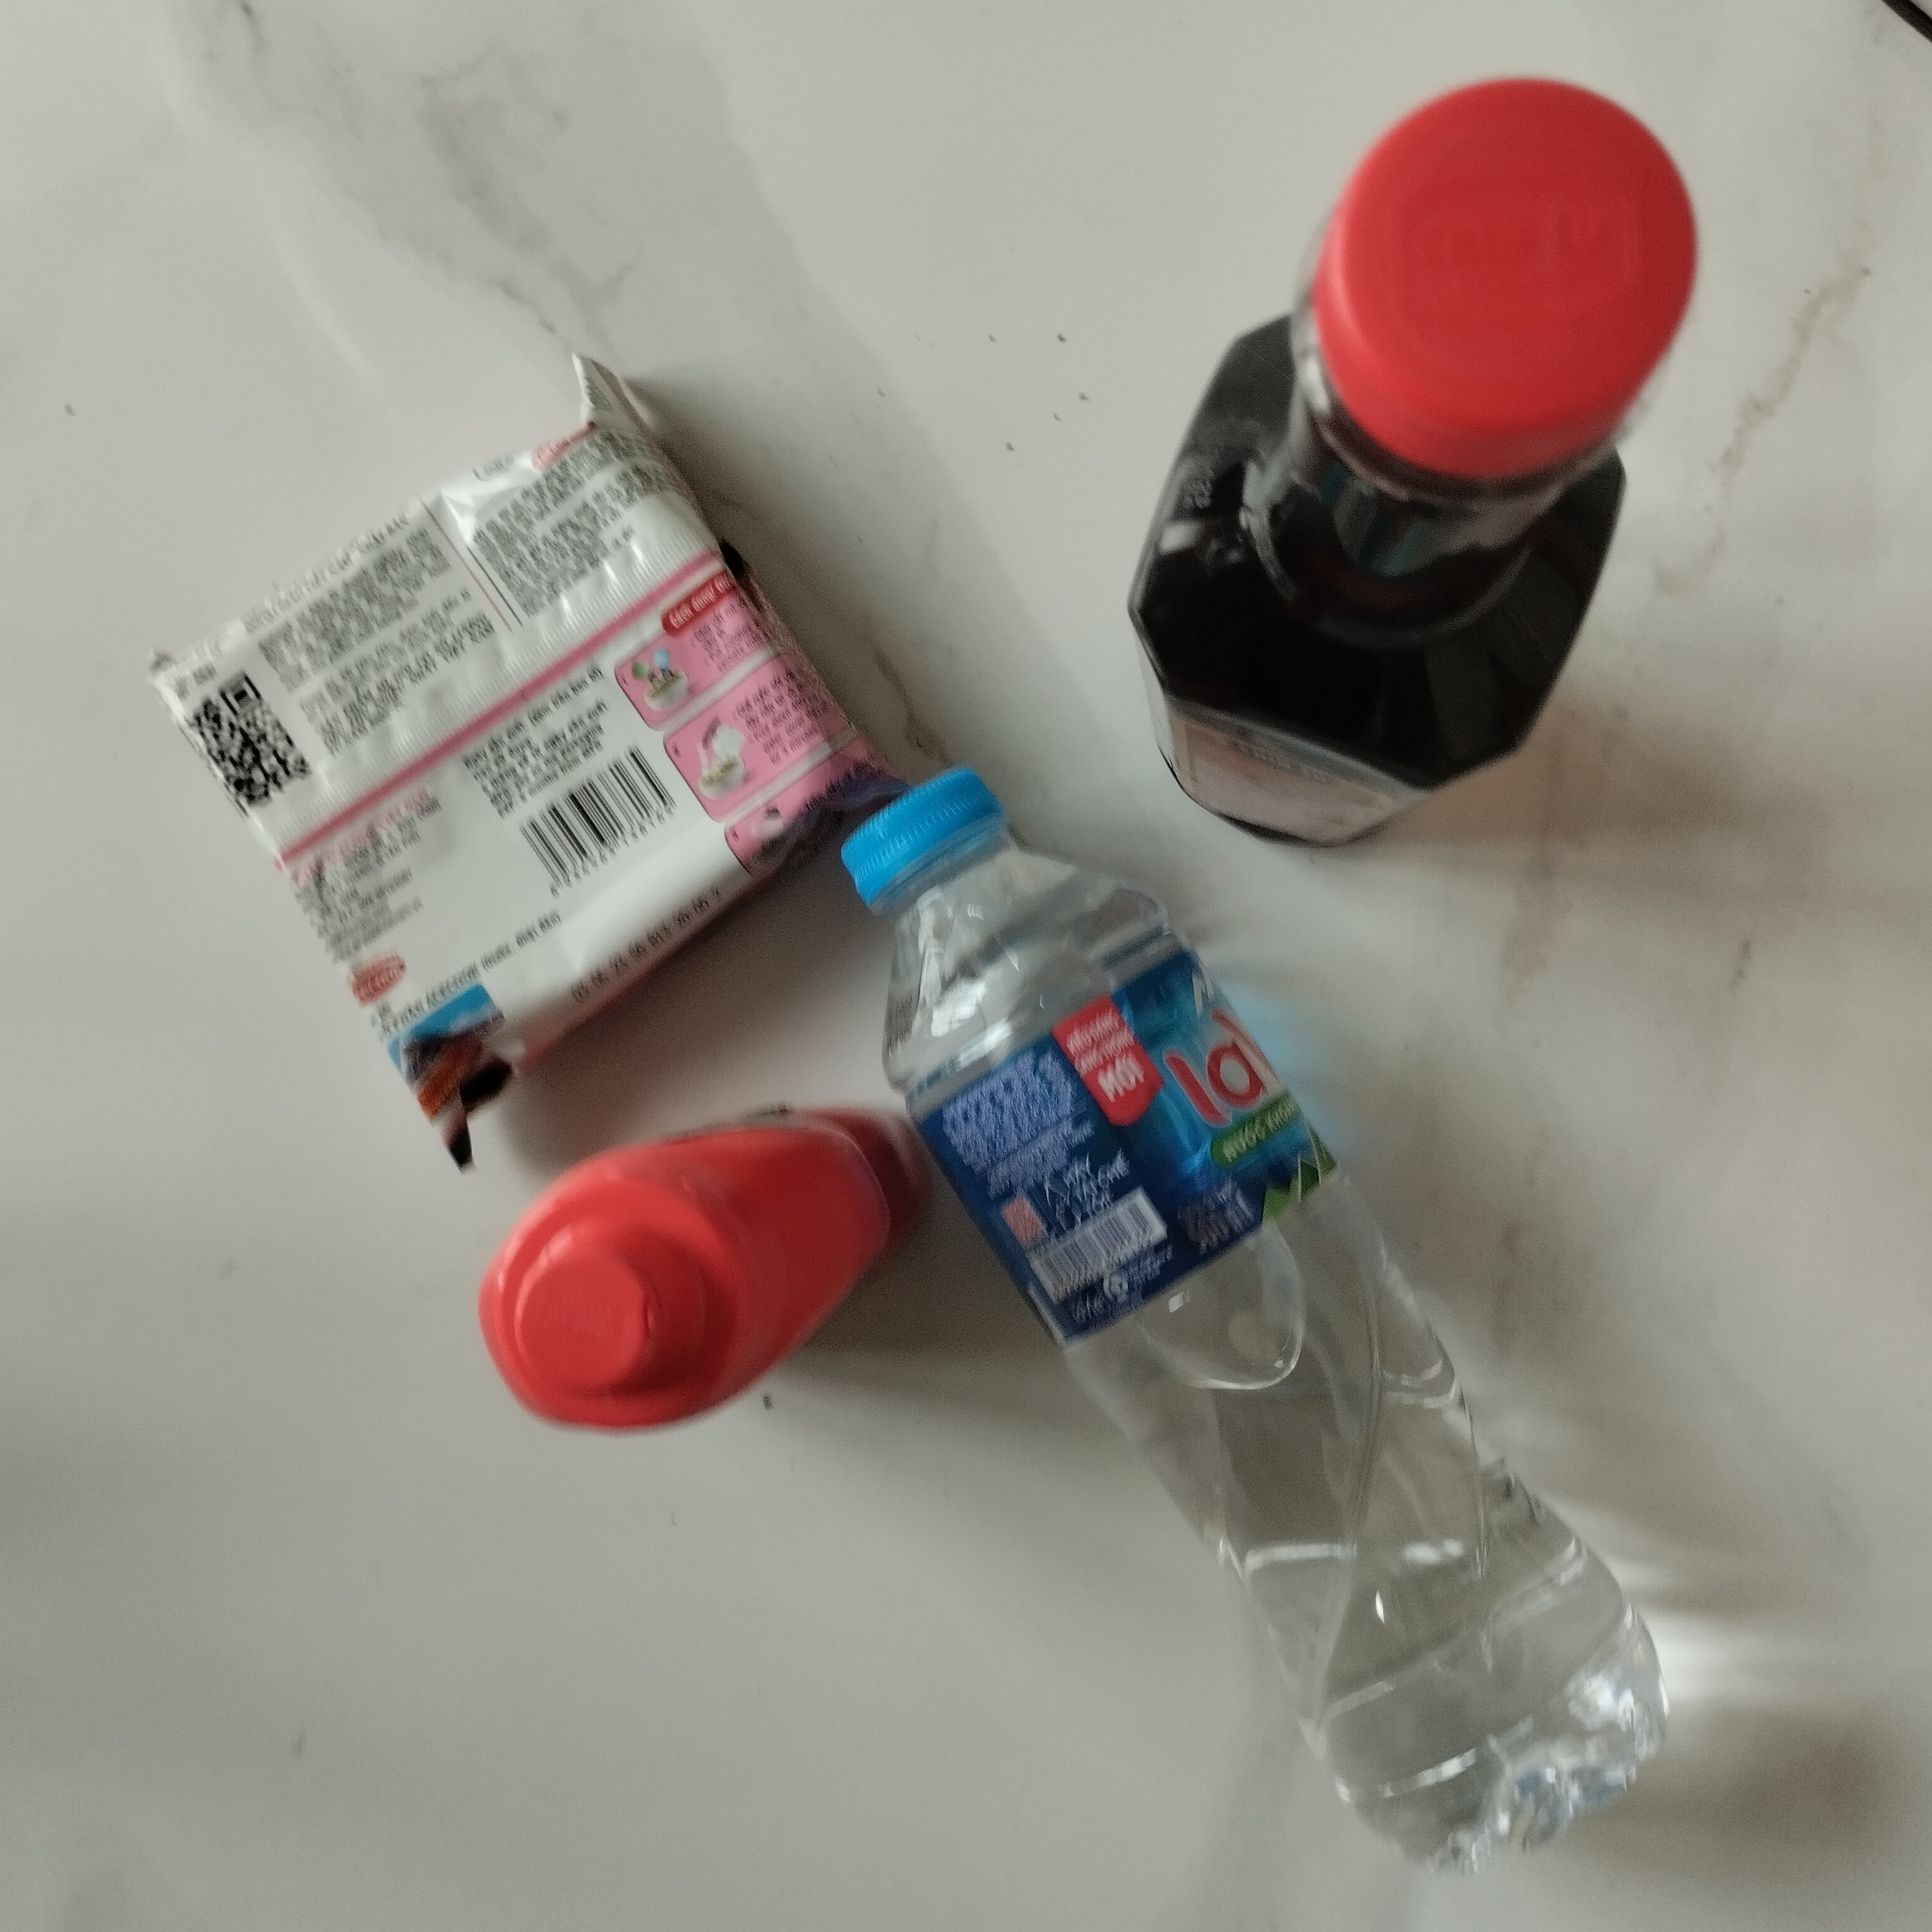Chinsu: (465, 1097, 936, 1442)
Haohao: (149, 347, 902, 1173)
Lavie: (833, 750, 1675, 1865)
Namngu: (1136, 62, 1698, 885)
